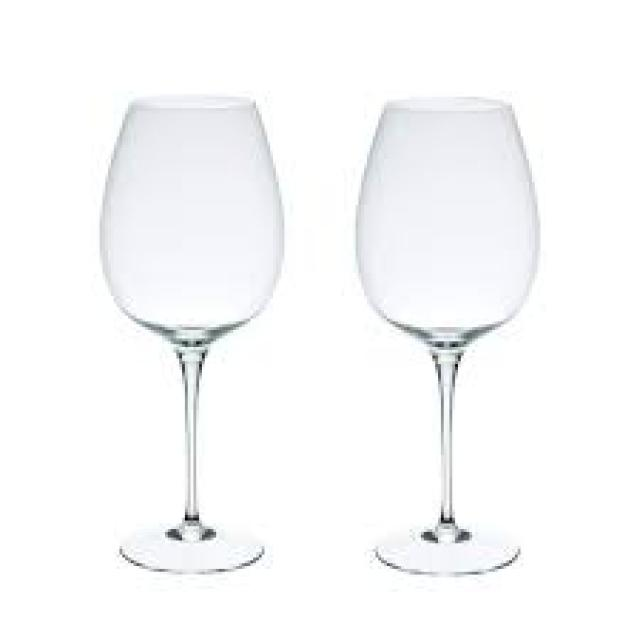glass: (100, 91, 285, 569), (353, 94, 535, 572)
